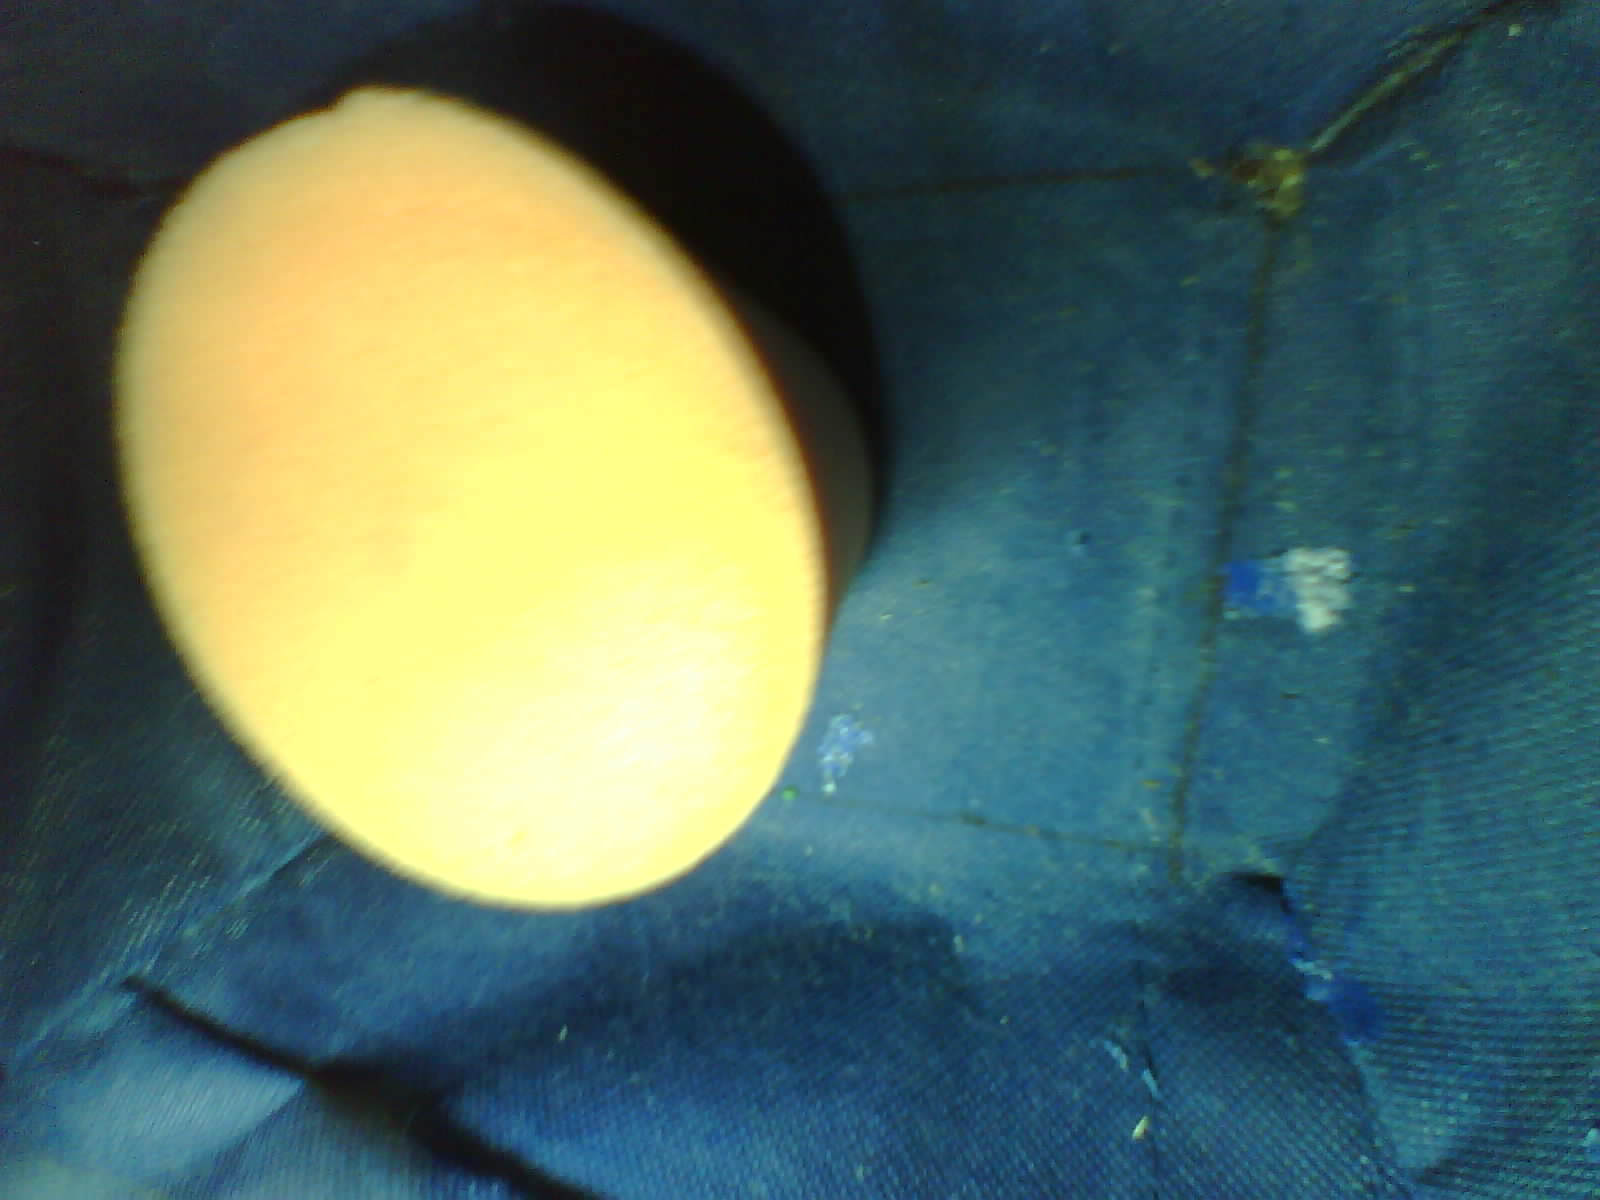cylinder-soft: (101, 66, 884, 942)
